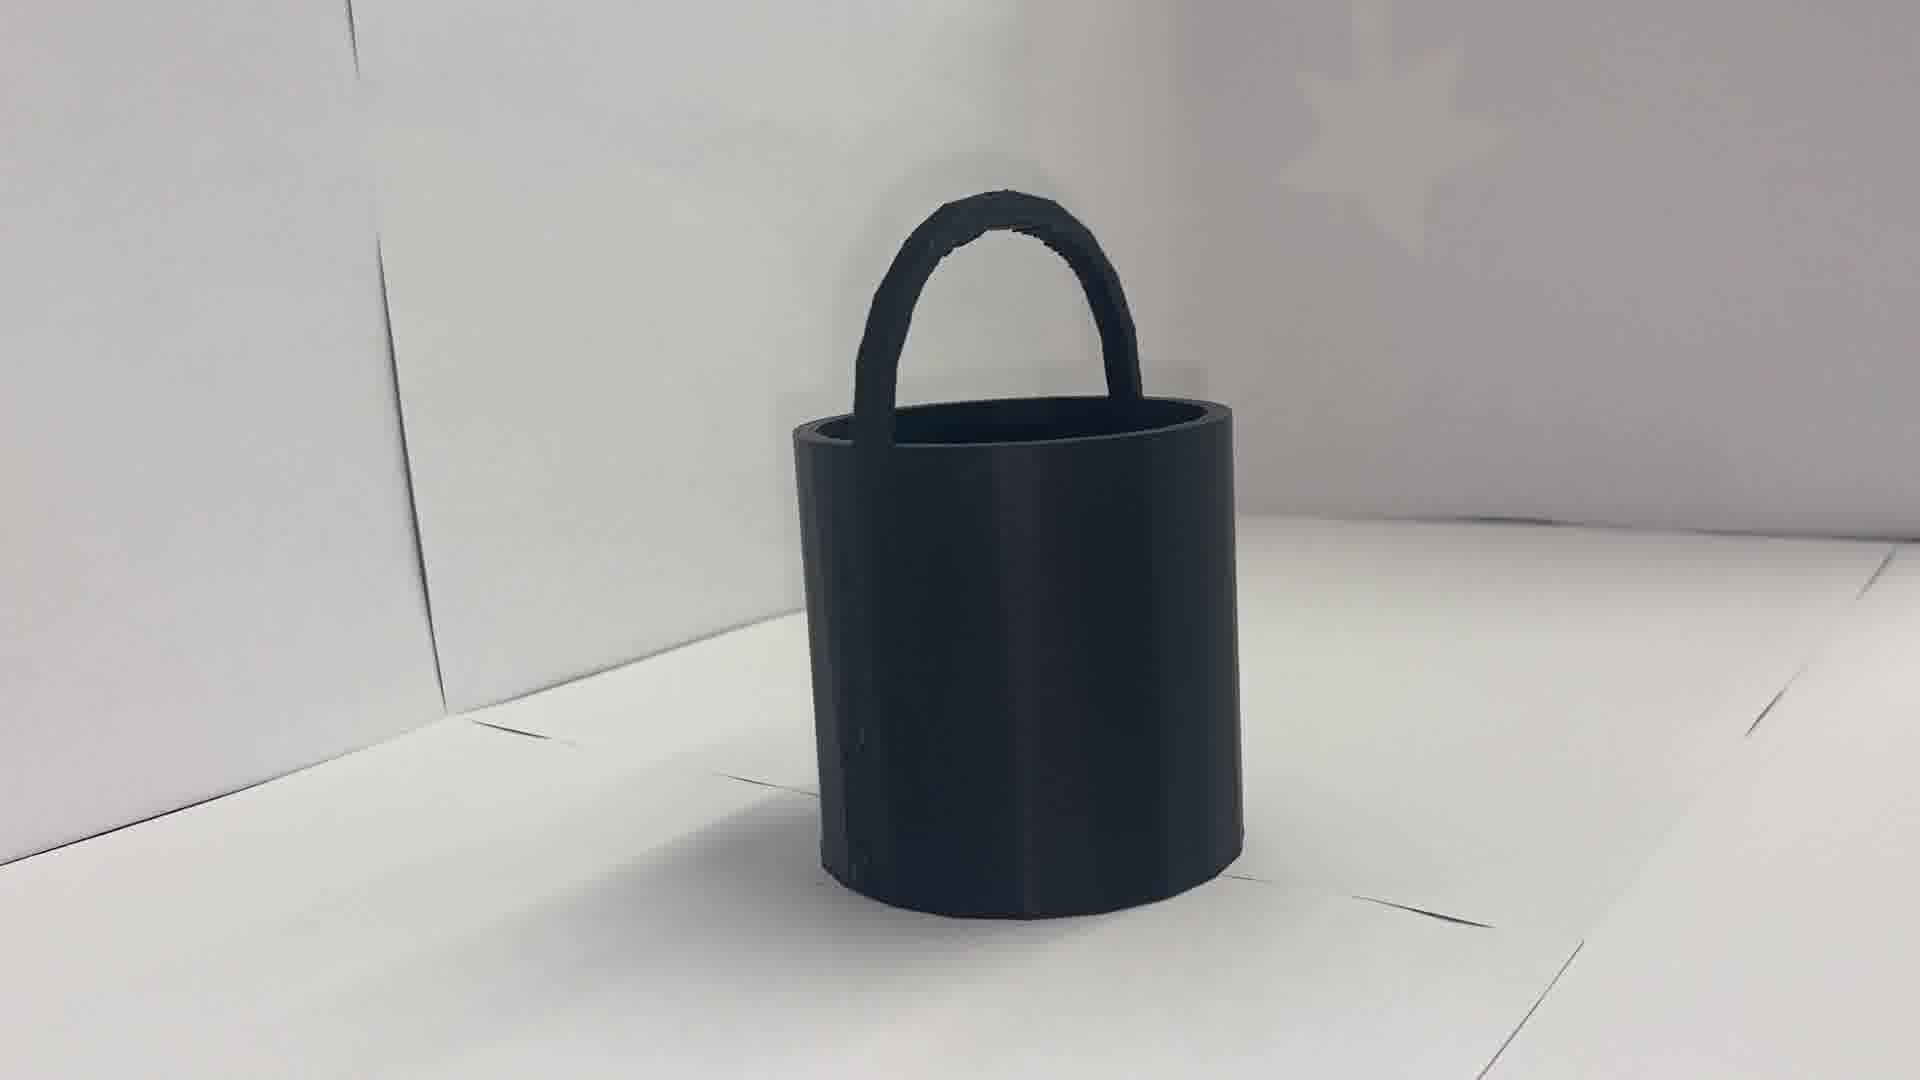bag: (785, 185, 1255, 924)
